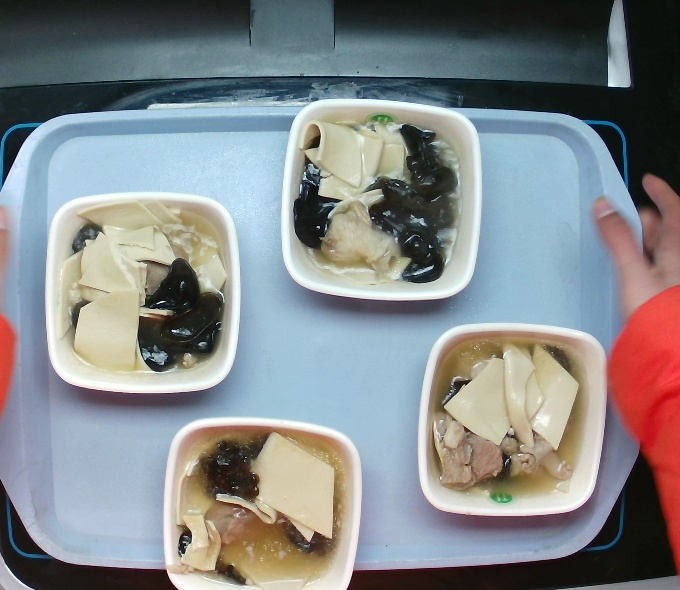wcq-QianZhangMuErTang: (47, 191, 241, 394), (287, 104, 465, 293), (425, 328, 594, 506), (172, 419, 346, 589)
